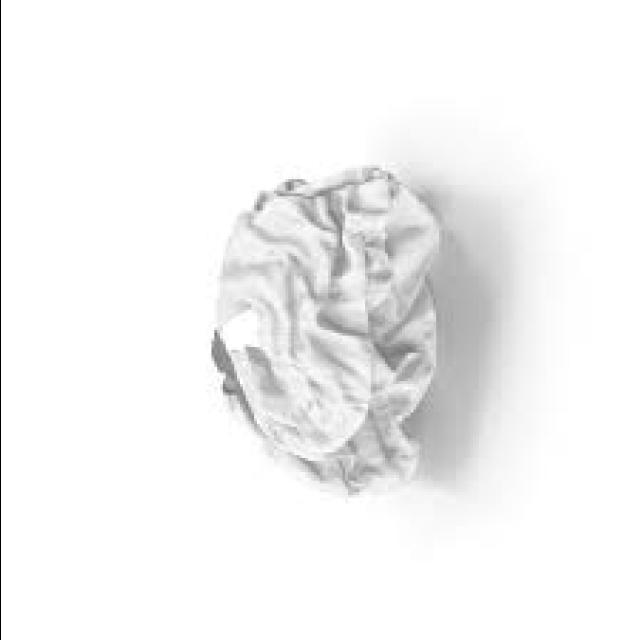crampled paper: (211, 168, 438, 495)
